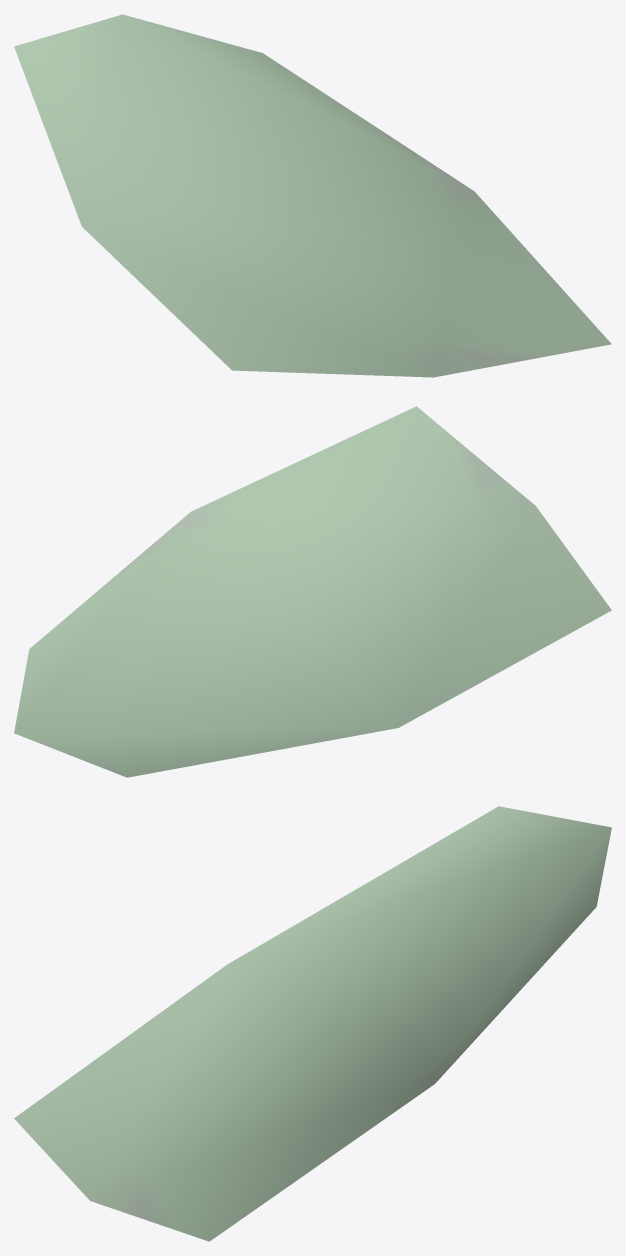
File: TROLLHOLE02_HOLECAP49.fbx
3 renders of one model, top to bottom at view 1: azimuth 30°, elevation 25°; view 2: azimuth 150°, elevation 25°; view 3: azimuth 330°, elevation 25°, orthographic. The views are drawn at different scales.
Visible parts, largest first — view 1: TROLLHOLE02_HOLECAP49; view 2: TROLLHOLE02_HOLECAP49; view 3: TROLLHOLE02_HOLECAP49.
Boxes of the visible parts, x1,y1,x2,y2 form: TROLLHOLE02_HOLECAP49: (14, 14, 611, 377); TROLLHOLE02_HOLECAP49: (14, 406, 611, 777); TROLLHOLE02_HOLECAP49: (14, 806, 611, 1241).
Bounding box in the file's own units: 18503 × 4382 × 44651.
1 material, 1 textured.
